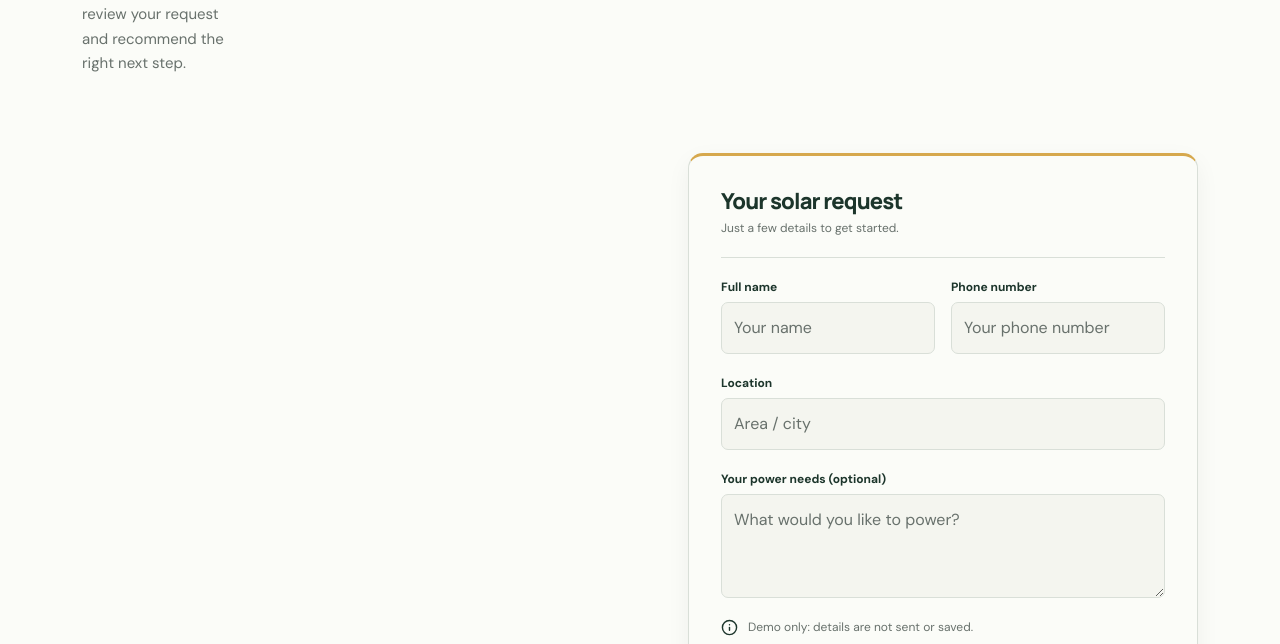
installation workflow › reuses the solar form with unique notices and independent confirmation state
(page scrolled)
In the field labelled "Full name": (828, 328) [721, 302, 935, 354], type "Test Customer"
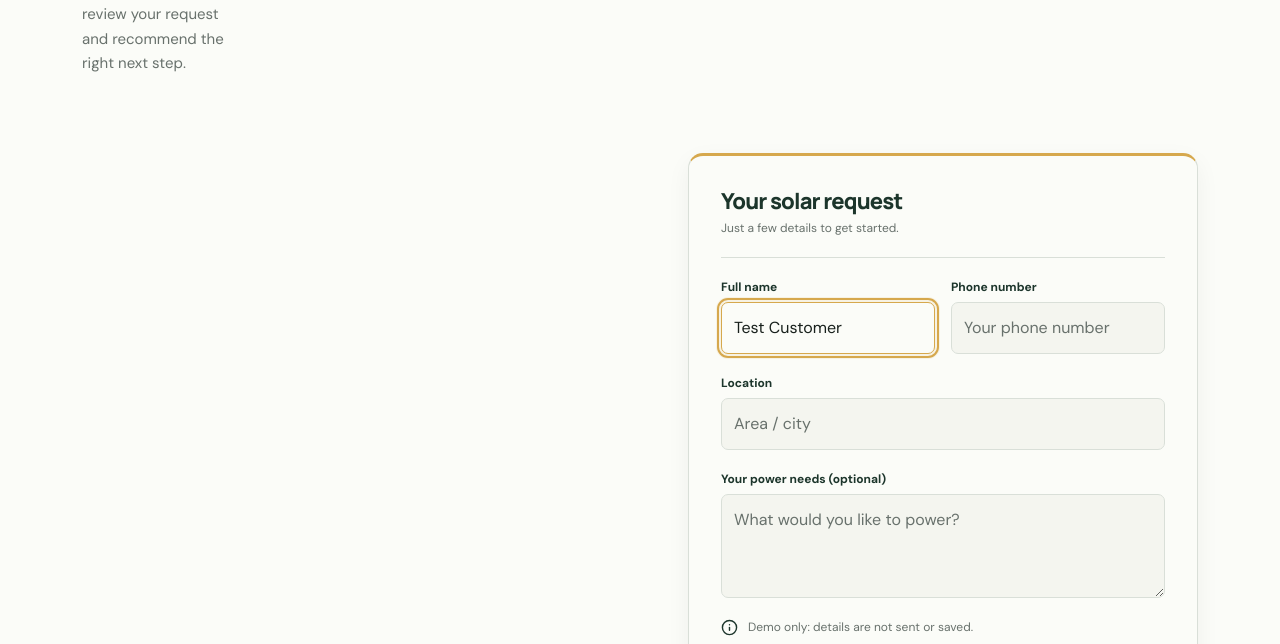
In the field labelled "Phone number": (1058, 328) [951, 302, 1165, 354], type "08000000000"
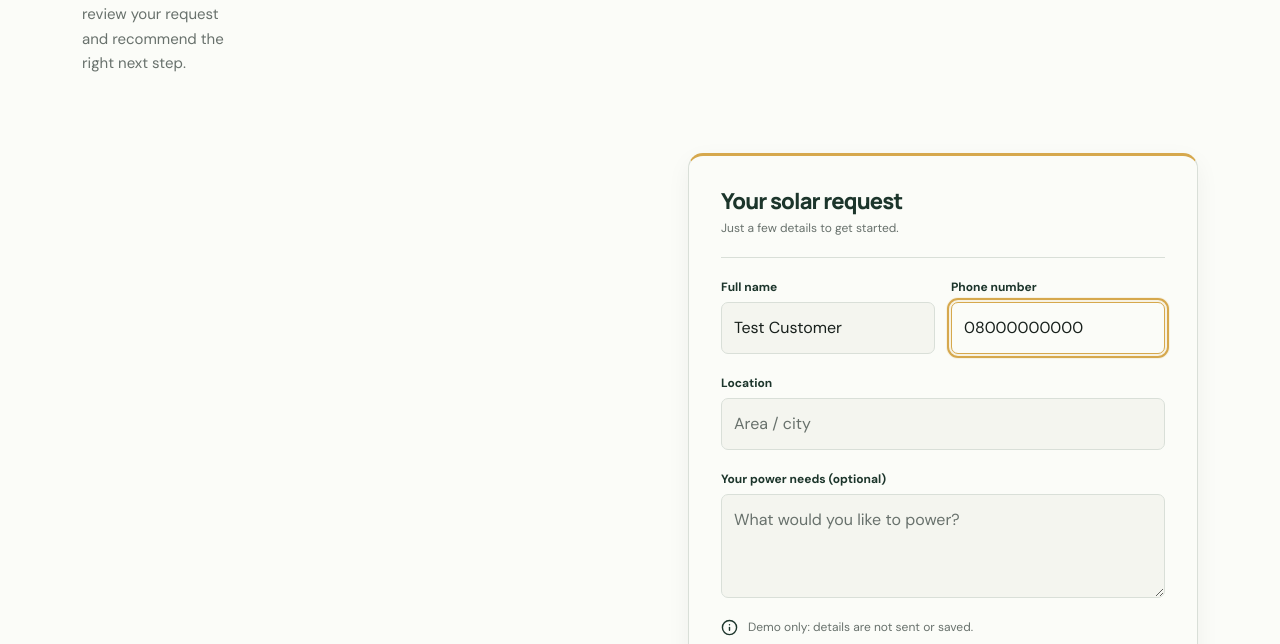
In the field labelled "Location": (943, 424) [721, 398, 1165, 450], type "Lagos"
(page scrolled)
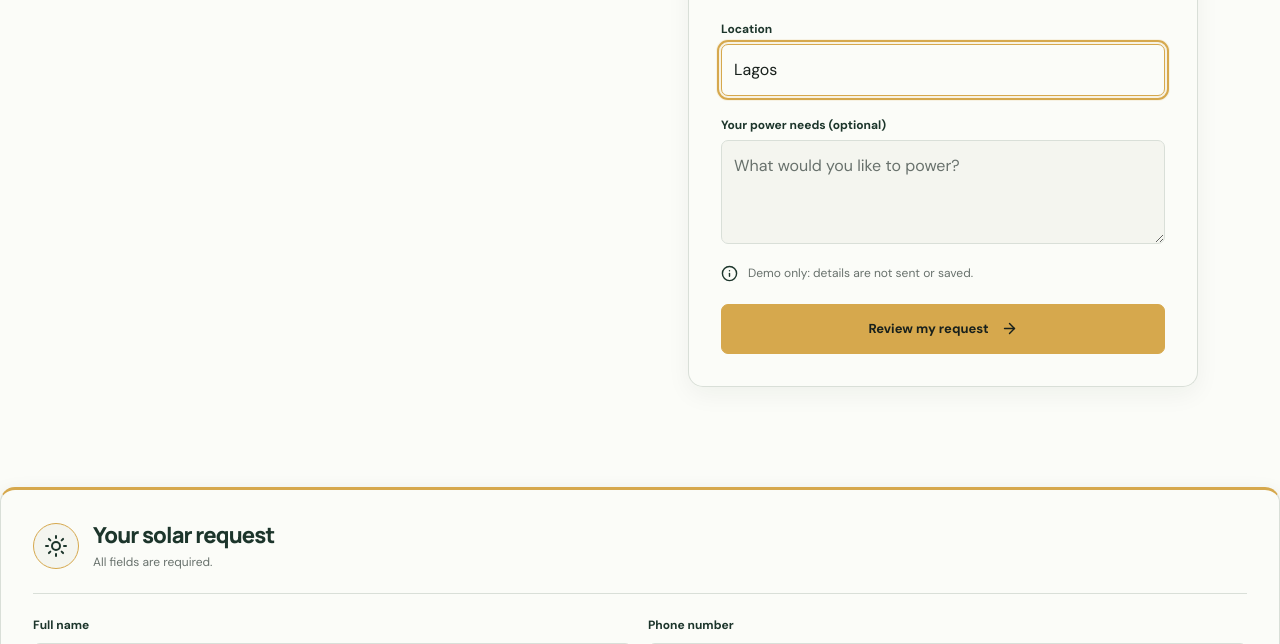
Click the button "Review my request": click(943, 329) [721, 304, 1165, 354]
(page scrolled)
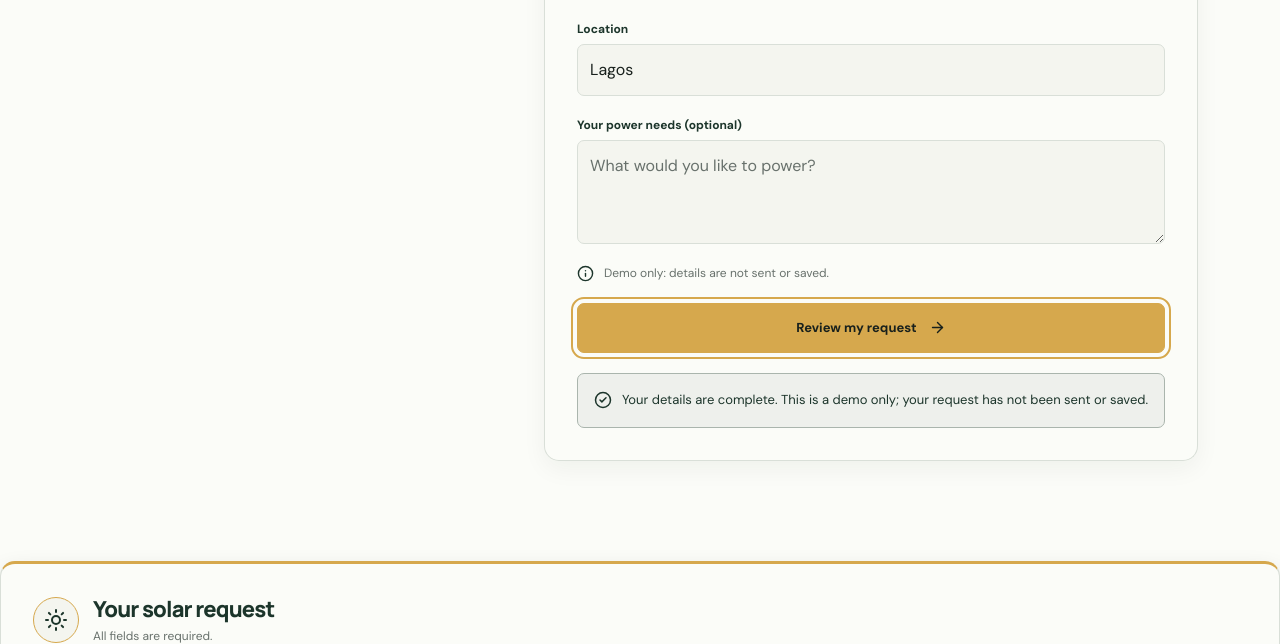
Result: the message shows "has not been sent or saved" at [622, 391, 1148, 408]
In the field labelled "Location": (871, 70) [577, 44, 1165, 96], type " Island"
(page scrolled)
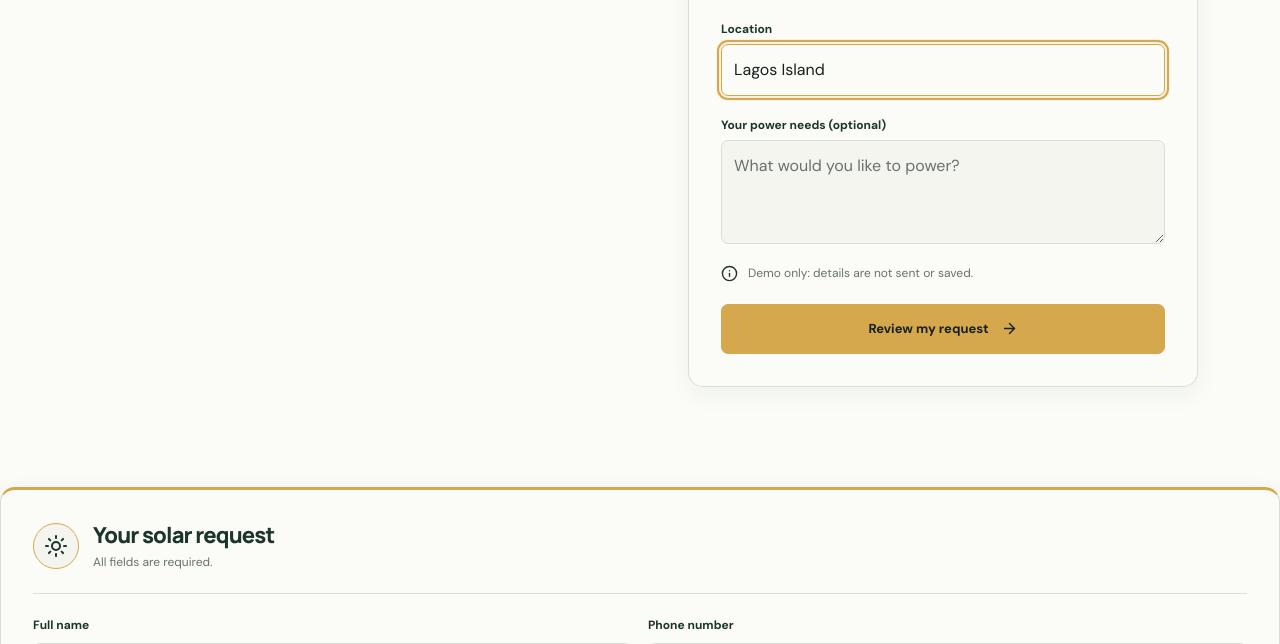
Result: the message is gone
